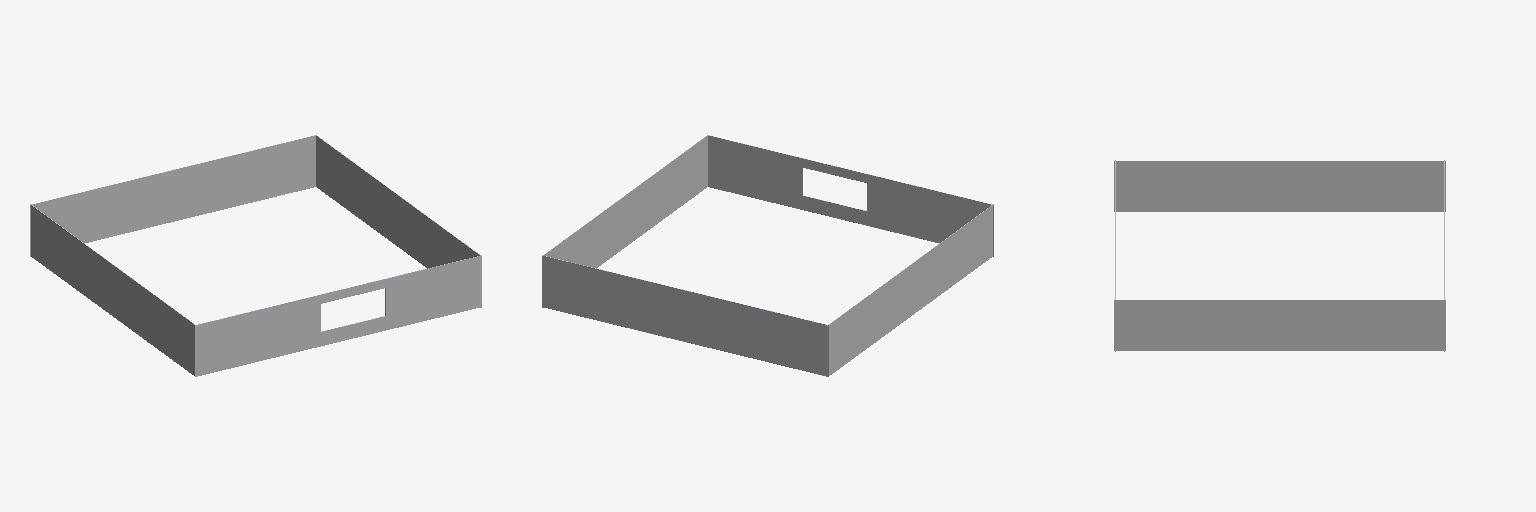
File: wall.obj
3 views of the same model, side by side, from view 1: azimuth 30°, elevation 25°; view 2: azimuth 150°, elevation 25°; view 3: azimuth 270°, elevation 25° (orthographic).
Parts seen in each view (by area): view 1: Cube.003_Cube.004; view 2: Cube.003_Cube.004; view 3: Cube.003_Cube.004.
Boxes of the visible parts, x1,y1,x2,y2 form: Cube.003_Cube.004: [30, 135, 481, 376]; Cube.003_Cube.004: [542, 135, 993, 376]; Cube.003_Cube.004: [1114, 160, 1445, 351].
Size of the model in its own units: 15.99 by 2.75 by 15.99.